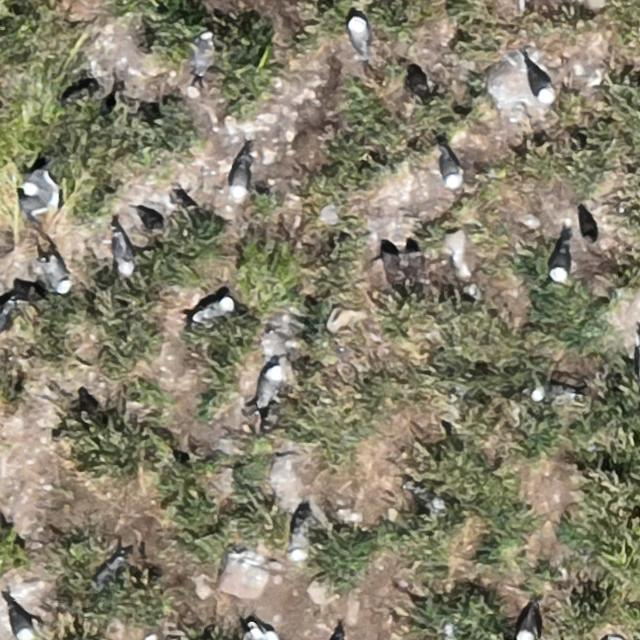F: (15, 173, 64, 217)
umineko: (289, 509, 313, 564), (529, 65, 555, 103), (261, 363, 284, 402), (409, 486, 443, 510), (193, 33, 212, 75), (46, 258, 69, 291), (347, 16, 368, 52), (516, 606, 537, 640), (195, 299, 230, 319), (231, 160, 250, 196), (116, 234, 134, 272), (441, 153, 461, 187), (11, 608, 32, 639), (551, 246, 569, 281), (530, 386, 566, 402), (0, 303, 13, 332)
